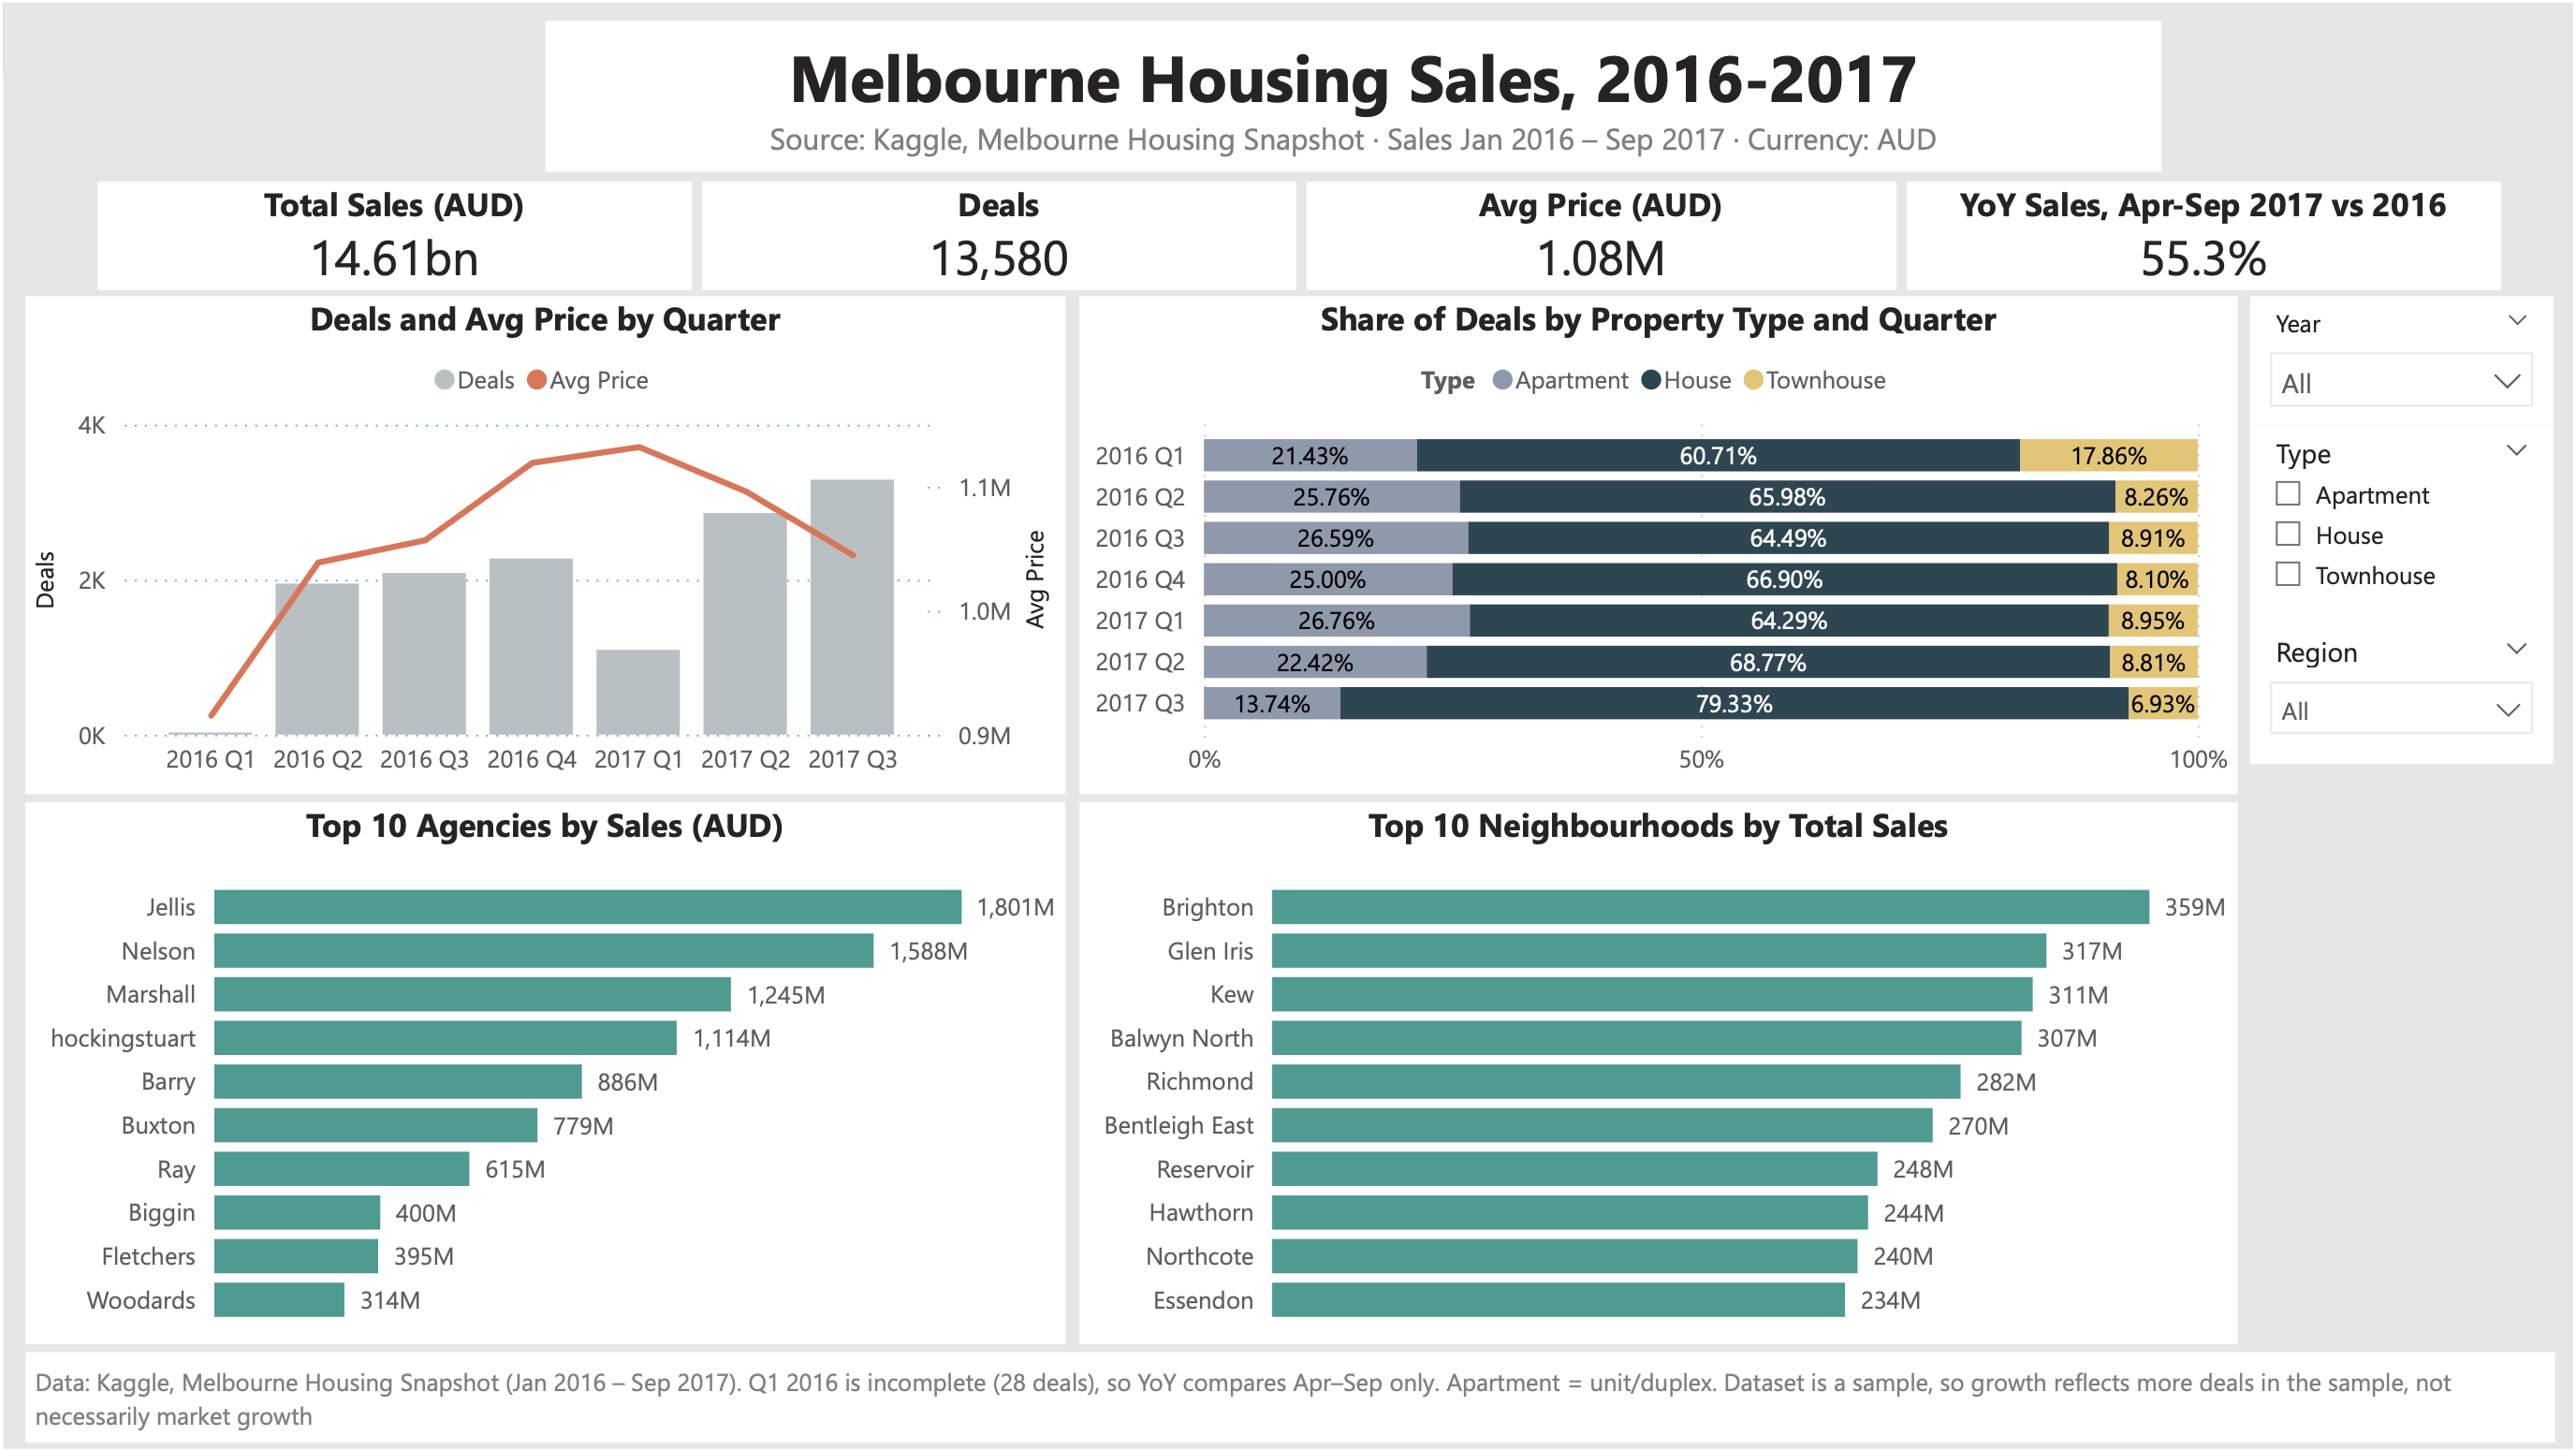

The dashboard page shown, as its layout file describes it:
{"tool":"powerbi","page":{"name":"Melbourne Housing Sales 2016-2017","canvas":[1280,720],"ordinal":0},"visuals":[{"type":"card","title":"Total Sales (AUD)","fields":{"Values":["_Measures.Total Sales"]},"box":[47.2,89,295.4,54],"z":0},{"type":"card","title":"Deals","fields":{"Values":["_Measures.Deals"]},"box":[348.3,89,295.4,54],"z":1000},{"type":"card","title":"Avg Price (AUD)","fields":{"Values":["_Measures.Avg Price"]},"box":[648.9,89,294.1,54],"z":2000},{"type":"lineClusteredColumnComboChart","title":"Deals and Avg Price by Quarter","fields":{"Category":["Calendar.Year-Quarter"],"Y":["_Measures.Deals"],"Y2":["_Measures.Avg Price"]},"box":[10.8,145.7,518,248],"z":3000},{"type":"clusteredBarChart","title":"Top 10 Agencies by Sales (AUD)","fields":{"Category":["melb_data.Agency"],"Y":["_Measures.Total Sales"]},"box":[10.8,398,518,269.8],"z":4000},{"type":"clusteredBarChart","title":"Top 10 Neighbourhoods by Total Sales","fields":{"Category":["melb_data.Neighbourhood"],"Y":["_Measures.Total Sales"]},"box":[535.6,398,577.4,269.8],"z":5000},{"type":"hundredPercentStackedBarChart","title":"Share of Deals by Property Type and Quarter","fields":{"Category":["Calendar.Year-Quarter"],"Y":["_Measures.Deals"],"Series":["melb_data.Type"]},"box":[535.6,145.7,577.4,248],"z":6000},{"type":"slicer","fields":{"Values":["Calendar.Year"]},"box":[1119.4,145.7,151.1,64.8],"z":7000},{"type":"slicer","fields":{"Values":["melb_data.Type"]},"box":[1119.4,210.5,151.1,99.8],"z":8000},{"type":"slicer","fields":{"Values":["melb_data.Region"]},"box":[1119.4,309,151.1,70.2],"z":9000},{"type":"card","title":"YoY Sales, Apr-Sep 2017 vs 2016","fields":{"Values":["_Measures.YoY Apr-Sep"]},"box":[948.4,89,295.4,54],"z":10000},{"type":"textbox","box":[269.8,9.4,805.4,75],"z":11000},{"type":"textbox","box":[10.8,671.8,1260,45],"z":12000}]}

Visuals, with their boxes in screenshot pixels (x1, y1, x2, y2), scaled from the page's 1280x720 canvas onto the 2576x1451 screenshot:
"Total Sales (AUD)" card: rect(95, 180, 690, 288)
"Deals" card: rect(701, 180, 1295, 288)
"Avg Price (AUD)" card: rect(1306, 180, 1897, 288)
"Deals and Avg Price by Quarter" lineClusteredColumnComboChart: rect(22, 294, 1064, 794)
"Top 10 Agencies by Sales (AUD)" clusteredBarChart: rect(22, 802, 1064, 1346)
"Top 10 Neighbourhoods by Total Sales" clusteredBarChart: rect(1078, 802, 2240, 1346)
"Share of Deals by Property Type and Quarter" hundredPercentStackedBarChart: rect(1078, 294, 2240, 794)
slicer - Calendar.Year: rect(2253, 294, 2557, 424)
slicer - melb_data.Type: rect(2253, 424, 2557, 625)
slicer - melb_data.Region: rect(2253, 623, 2557, 764)
"YoY Sales, Apr-Sep 2017 vs 2016" card: rect(1909, 180, 2503, 288)
textbox: rect(543, 19, 2164, 170)
textbox: rect(22, 1354, 2557, 1444)
